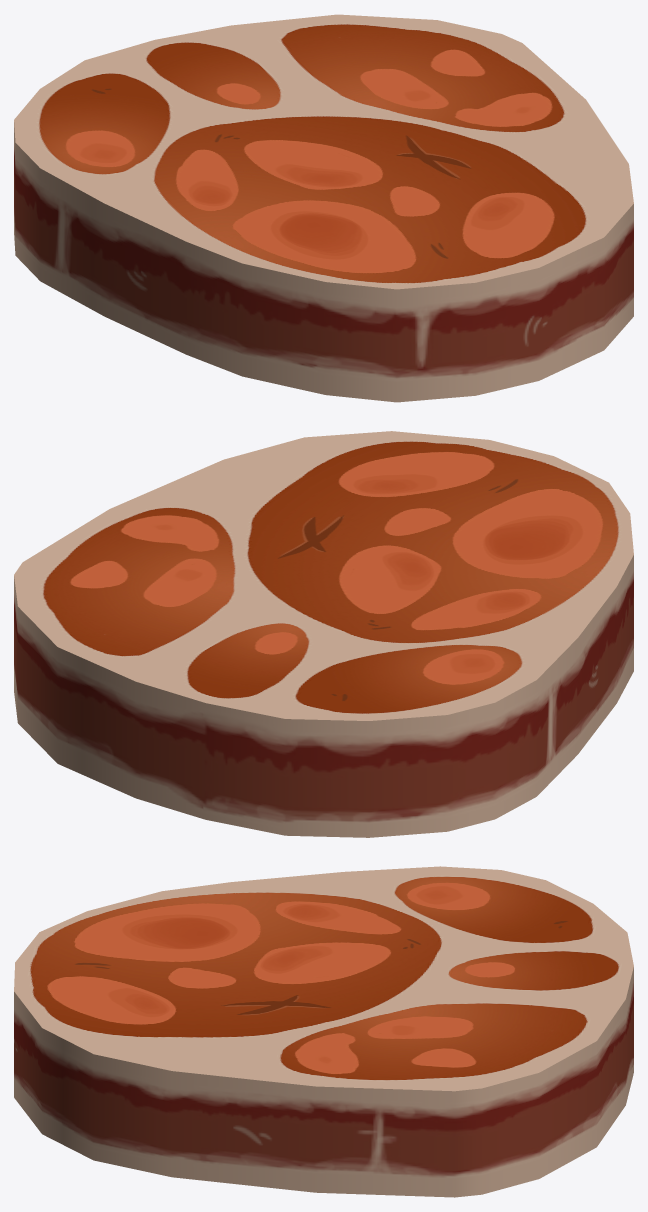
Rendered from Carne.fbx.
3 views of the same model, one above another, from view 1: azimuth 30°, elevation 25°; view 2: azimuth 150°, elevation 25°; view 3: azimuth 270°, elevation 25° (orthographic). The views are drawn at different scales.
Parts seen in each view (by area): view 1: Line001; view 2: Line001; view 3: Line001.
Part boxes in pixels (x1=…): Line001: x1=14, y1=14, x2=633, y2=402; Line001: x1=14, y1=431, x2=633, y2=837; Line001: x1=14, y1=866, x2=633, y2=1197.
Size of the model in its own units: 73.94 by 16.3 by 86.18.
Materials: 1 (1 with a texture image).
